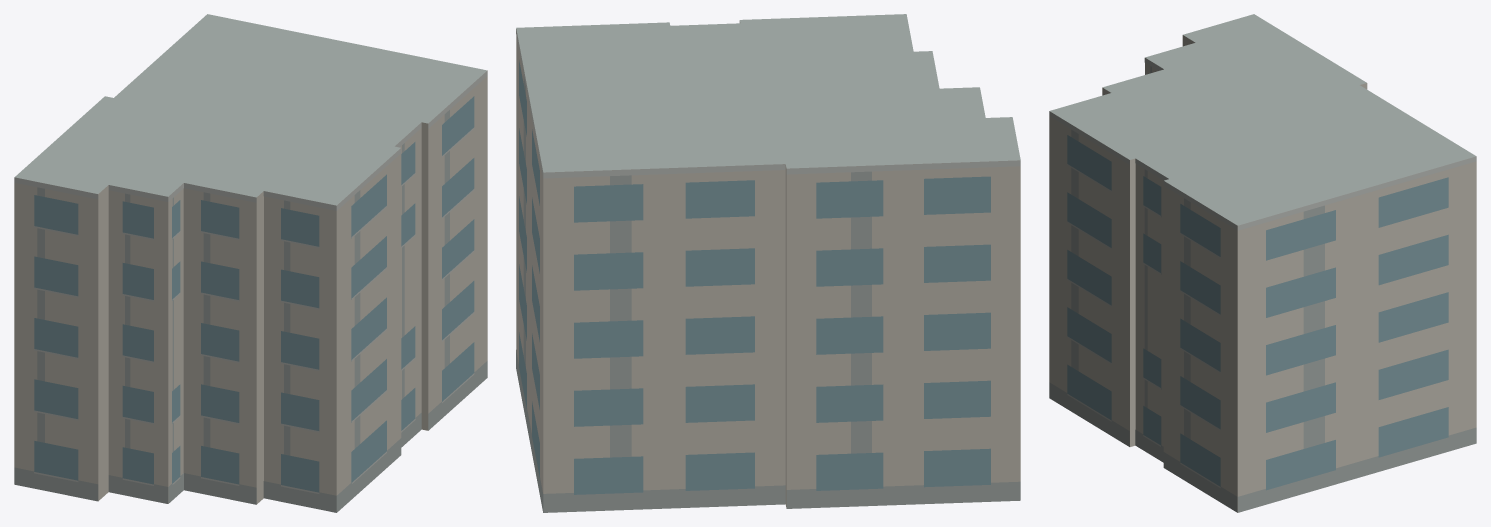
Rendered from survey-upis-32619441.glb.
3 renders of one model, left to right at view 1: azimuth 30°, elevation 25°; view 2: azimuth 150°, elevation 25°; view 3: azimuth 270°, elevation 25°, orthographic. The views are drawn at different scales.
Visible parts, largest first — view 1: survey-upis-32619441.tmp; view 2: survey-upis-32619441.tmp; view 3: survey-upis-32619441.tmp.
Part boxes in pixels (<box>): survey-upis-32619441.tmp: <box>14,14,487,512</box>; survey-upis-32619441.tmp: <box>516,14,1020,512</box>; survey-upis-32619441.tmp: <box>1049,14,1476,512</box>.
Size of the model in its own units: 21.99 by 13.9 by 18.76.
